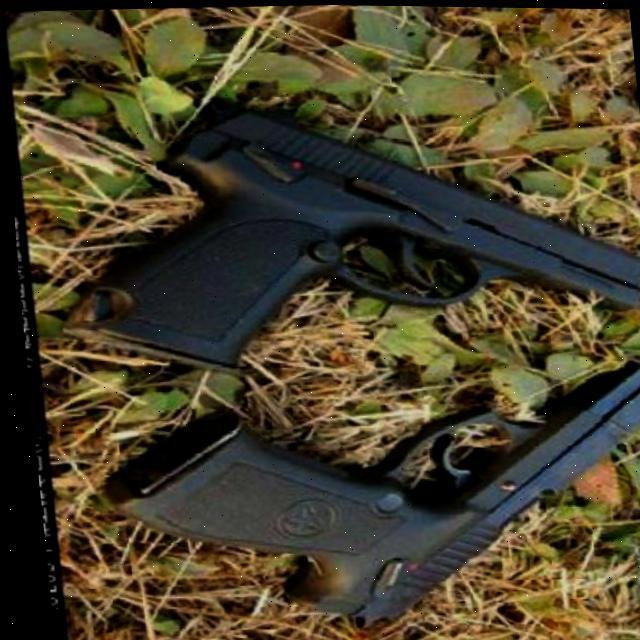gun: (57, 88, 640, 383), (77, 349, 640, 640)
